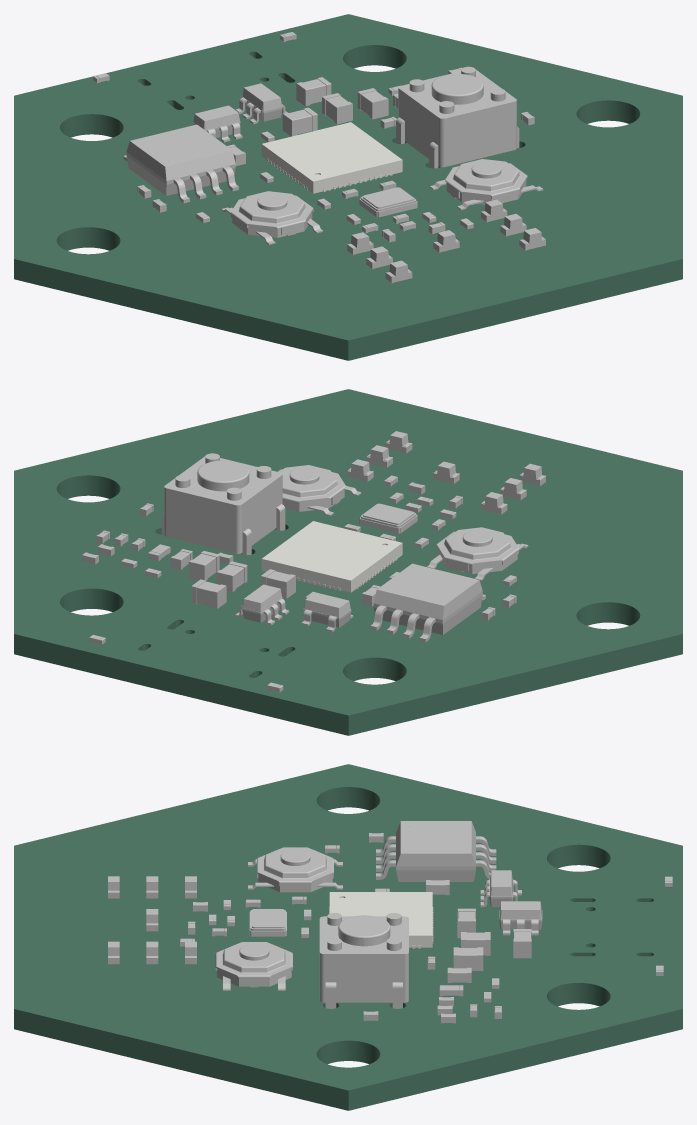
Rendered from sierrathon.glb.
3 views of the same model, one above another, from view 1: azimuth 30°, elevation 25°; view 2: azimuth 150°, elevation 25°; view 3: azimuth 270°, elevation 25° (orthographic).
Visible parts, largest first — view 1: sierrathon PCB, SW_PUSH_6mm, SW_SPST_TL3342 (×2), QFN_56_1EP_7x7mm_P04mm_EP32x32mm, UL_W25Q128JVSIQ_SOIC_208MIL, C_0805_2012Metric (×4), SOT_23_6, SOT_23_5, Crystal_SMD_3225-4Pin_3.2x2.5mm; view 2: sierrathon PCB, SW_PUSH_6mm, QFN_56_1EP_7x7mm_P04mm_EP32x32mm, UL_W25Q128JVSIQ_SOIC_208MIL, SW_SPST_TL3342 (×2), C_0805_2012Metric (×4), SOT_23_5, SOT_23_6, Crystal_SMD_3225-4Pin_3.2x2.5mm; view 3: sierrathon PCB, SW_PUSH_6mm, SW_SPST_TL3342 (×2), UL_W25Q128JVSIQ_SOIC_208MIL, QFN_56_1EP_7x7mm_P04mm_EP32x32mm, C_0805_2012Metric (×3), SOT_23_6, SOT_23_5, Crystal_SMD_3225-4Pin_3.2x2.5mm.
Boxes of the visible parts, x1=… form: sierrathon PCB: x1=14, y1=14, x2=682, y2=360; SW_PUSH_6mm: x1=396, y1=66, x2=519, y2=168; SW_SPST_TL3342 (×2): x1=221, y1=159, x2=543, y2=244; QFN_56_1EP_7x7mm_P04mm_EP32x32mm: x1=261, y1=122, x2=402, y2=193; UL_W25Q128JVSIQ_SOIC_208MIL: x1=123, y1=124, x2=238, y2=203; C_0805_2012Metric (×4): x1=282, y1=77, x2=388, y2=136; SOT_23_6: x1=235, y1=83, x2=287, y2=124; SOT_23_5: x1=193, y1=105, x2=242, y2=142; Crystal_SMD_3225-4Pin_3.2x2.5mm: x1=359, y1=187, x2=417, y2=217; sierrathon PCB: x1=14, y1=389, x2=682, y2=735; SW_PUSH_6mm: x1=161, y1=453, x2=285, y2=554; QFN_56_1EP_7x7mm_P04mm_EP32x32mm: x1=261, y1=521, x2=402, y2=592; UL_W25Q128JVSIQ_SOIC_208MIL: x1=370, y1=563, x2=485, y2=642; SW_SPST_TL3342 (×2): x1=277, y1=465, x2=528, y2=581; C_0805_2012Metric (×4): x1=188, y1=551, x2=295, y2=608; SOT_23_5: x1=301, y1=592, x2=353, y2=632; SOT_23_6: x1=235, y1=584, x2=289, y2=625; Crystal_SMD_3225-4Pin_3.2x2.5mm: x1=359, y1=503, x2=417, y2=533; sierrathon PCB: x1=14, y1=764, x2=682, y2=1110; SW_PUSH_6mm: x1=319, y1=913, x2=408, y2=1008; SW_SPST_TL3342 (×2): x1=215, y1=847, x2=342, y2=990; UL_W25Q128JVSIQ_SOIC_208MIL: x1=376, y1=821, x2=496, y2=881; QFN_56_1EP_7x7mm_P04mm_EP32x32mm: x1=329, y1=892, x2=433, y2=948; C_0805_2012Metric (×3): x1=453, y1=929, x2=531, y2=971; SOT_23_6: x1=499, y1=901, x2=542, y2=935; SOT_23_5: x1=480, y1=870, x2=521, y2=907; Crystal_SMD_3225-4Pin_3.2x2.5mm: x1=249, y1=909, x2=286, y2=936.
Size of the model in its own units: 52 by 7.8 by 45.03.
